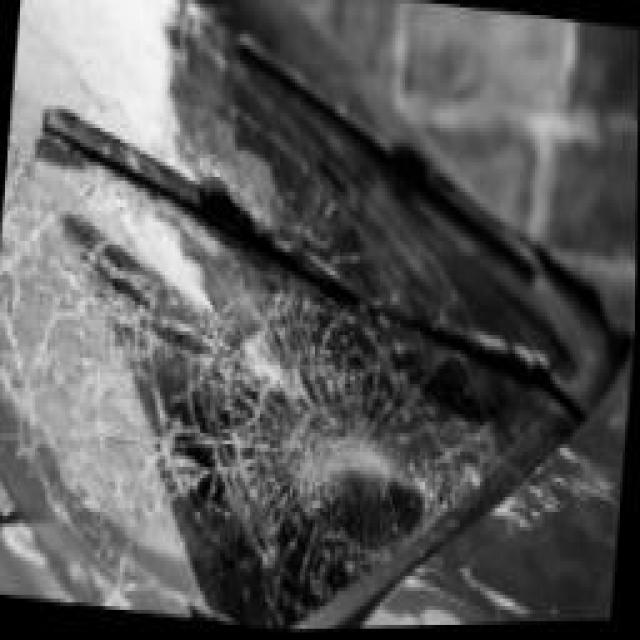Windshield: (0, 136, 638, 640)
